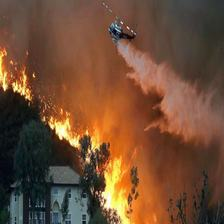fire: (88, 155, 141, 222), (46, 108, 101, 162), (2, 50, 40, 113)
